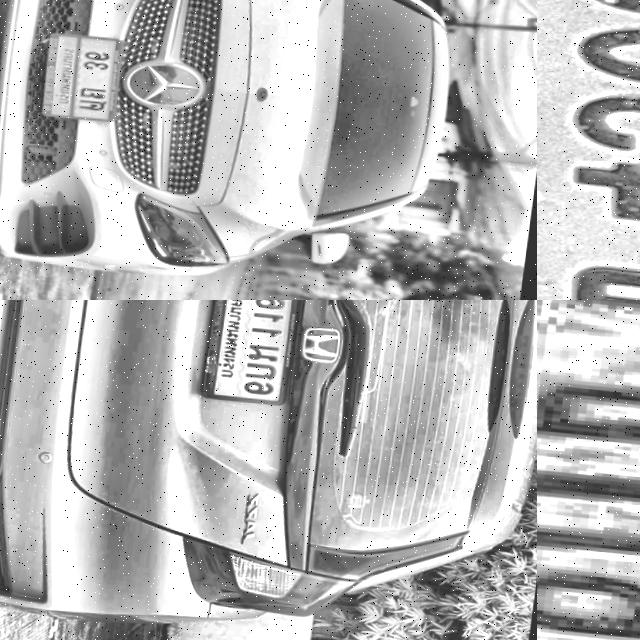license-plate: (537, 300, 640, 640), (537, 0, 640, 300), (203, 300, 308, 402), (38, 25, 132, 123)
